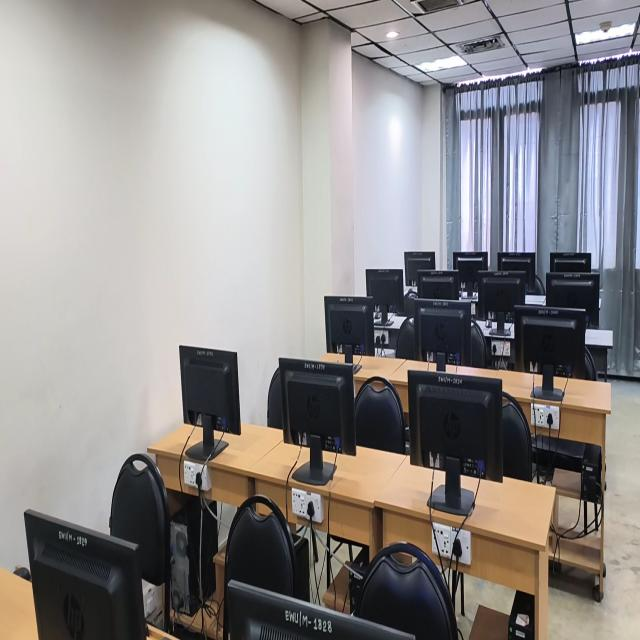Chair: (109, 453, 171, 631), (224, 495, 300, 636), (353, 543, 458, 639), (354, 377, 406, 453), (503, 393, 532, 481), (267, 365, 282, 428), (395, 318, 415, 359), (471, 321, 487, 366), (585, 348, 597, 380)
Cpu: (171, 523, 189, 613)
Monitor: (24, 510, 148, 639), (227, 580, 415, 639), (409, 370, 503, 481), (278, 359, 356, 485), (180, 346, 240, 459), (514, 306, 585, 378), (410, 297, 473, 366), (324, 296, 374, 354), (545, 273, 598, 327), (477, 273, 524, 330), (366, 270, 403, 323), (498, 252, 544, 293), (453, 252, 488, 296), (417, 270, 459, 299), (404, 251, 435, 286), (549, 252, 591, 272)
